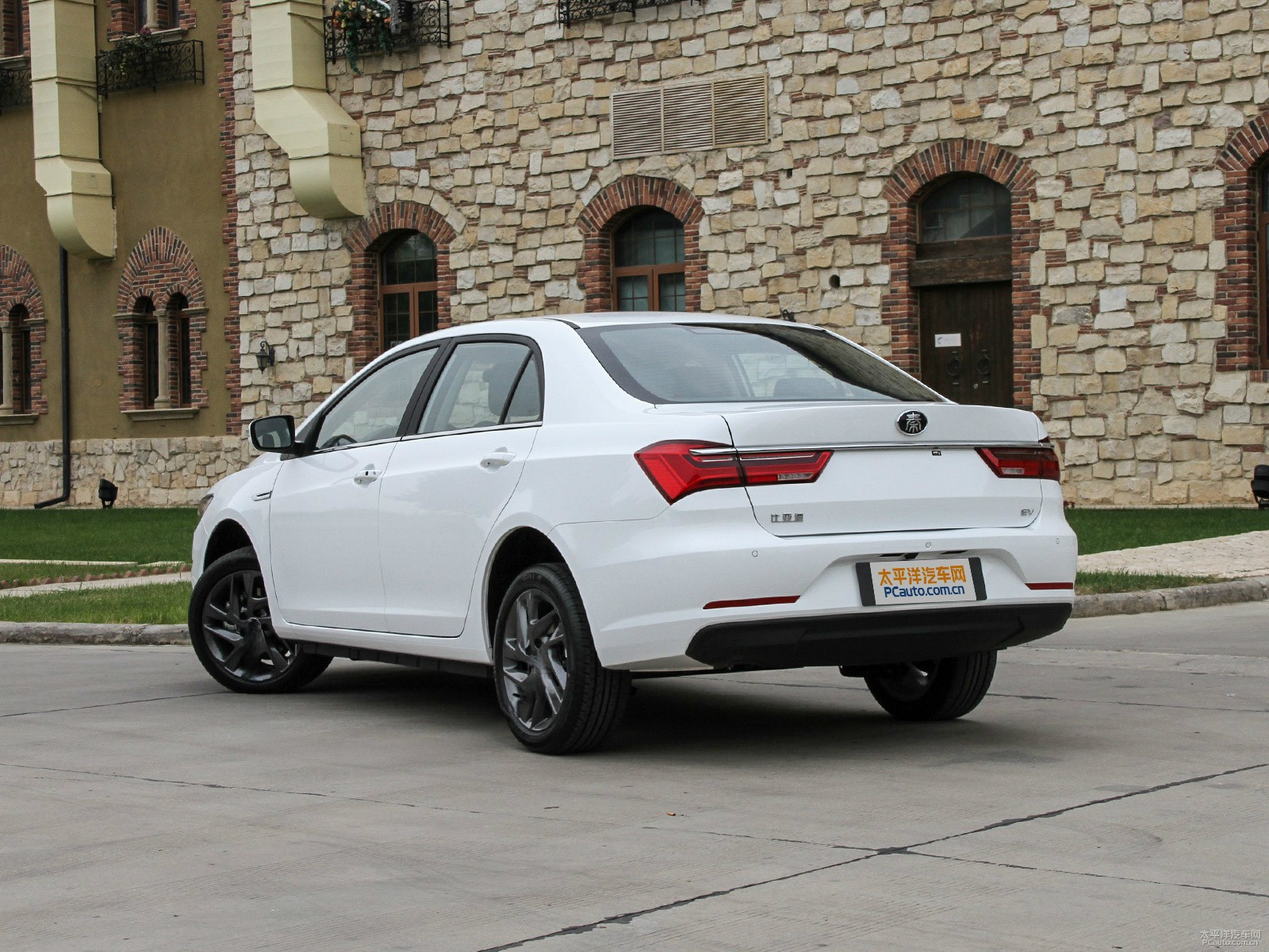BYD Qin: (896, 410, 928, 435)
